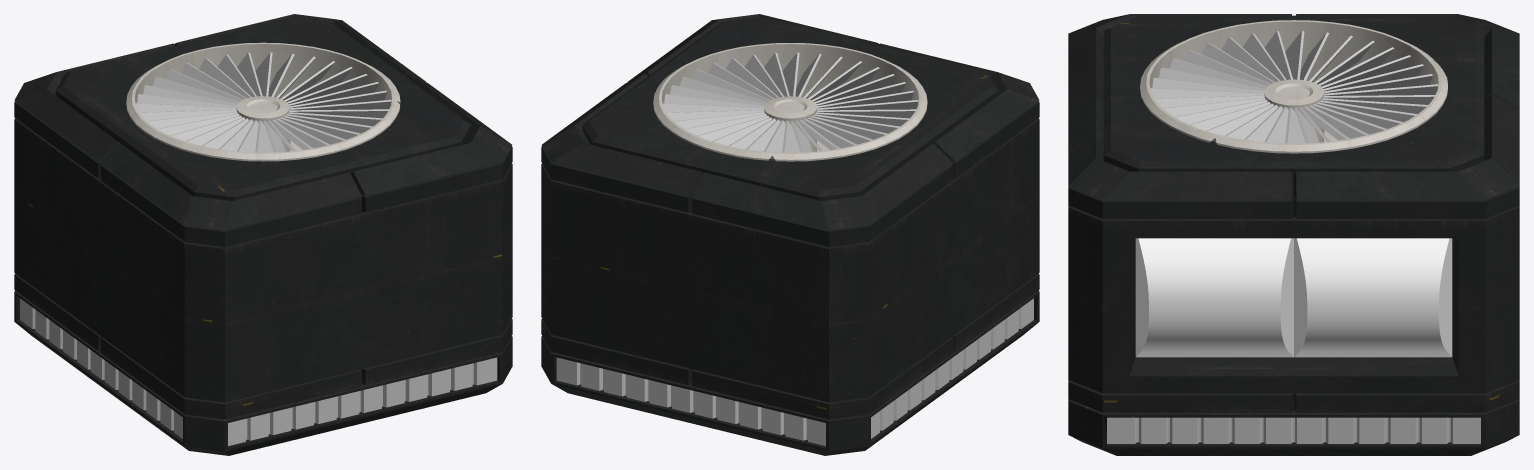
The model's file is KB3D_CBP_ACunit_H.fbx.
The picture shows the model from 3 angles, left to right: view 1: azimuth 30°, elevation 25°; view 2: azimuth 150°, elevation 25°; view 3: azimuth 270°, elevation 25°; orthographic projection. The views are drawn at different scales.
Parts seen in each view (by area): view 1: KB3D_CBP_ACunit_H_Main; view 2: KB3D_CBP_ACunit_H_Main; view 3: KB3D_CBP_ACunit_H_Main.
Boxes of the visible parts, <box> form: KB3D_CBP_ACunit_H_Main: <box>14,14,512,455</box>; KB3D_CBP_ACunit_H_Main: <box>541,14,1039,455</box>; KB3D_CBP_ACunit_H_Main: <box>1068,14,1519,455</box>.
Size of the model in its own units: 352 by 259 by 366.
